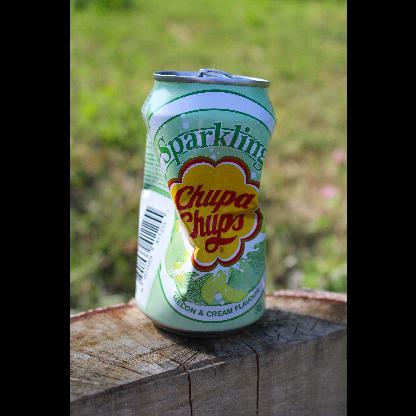Dent_Can: (136, 132, 271, 290)
Lid_Open: (186, 52, 233, 93)
Tin_Can: (134, 57, 276, 338)
